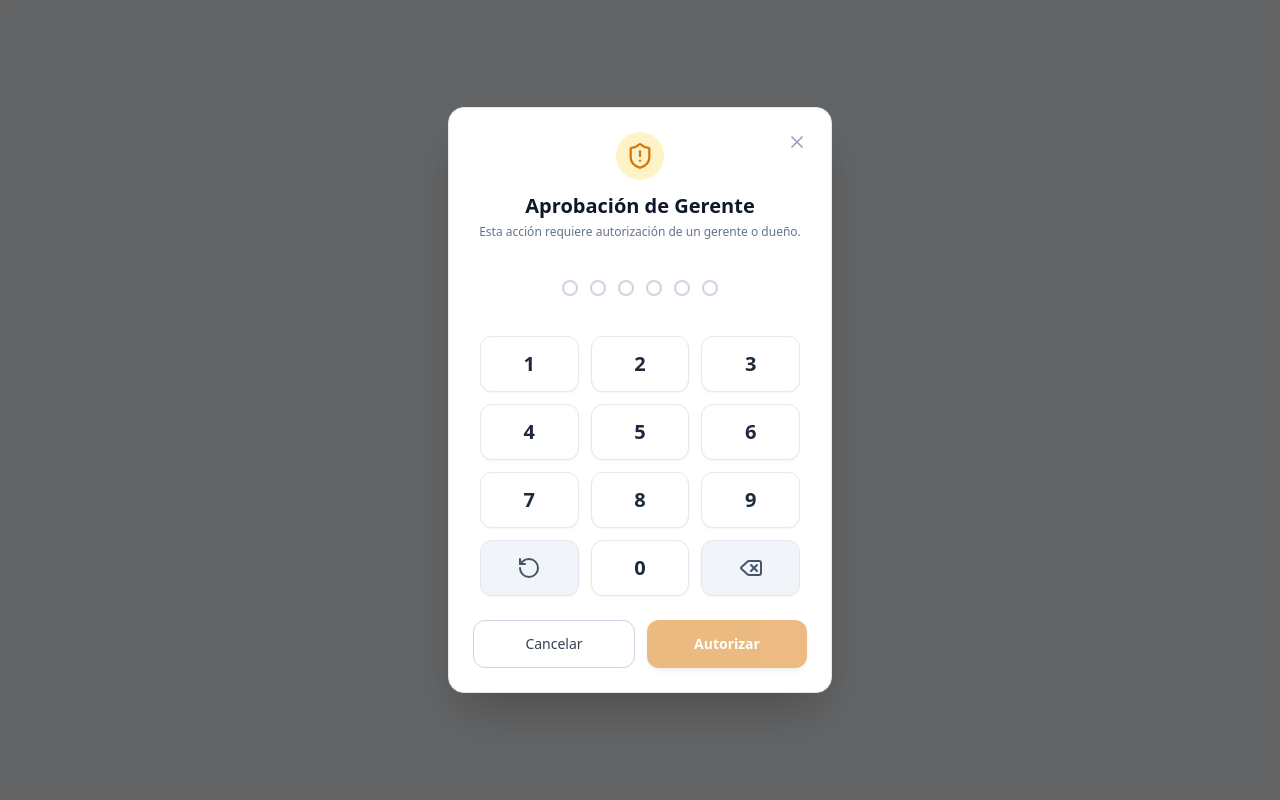
Test case: Auth & PIN Security (S2-T6) › ManagerApprovalDialog › rejects approval when a cashier PIN is entered
The width and height of the screenshot is (1280, 800).
Click the button "1": (529, 364) [480,336,579,392]
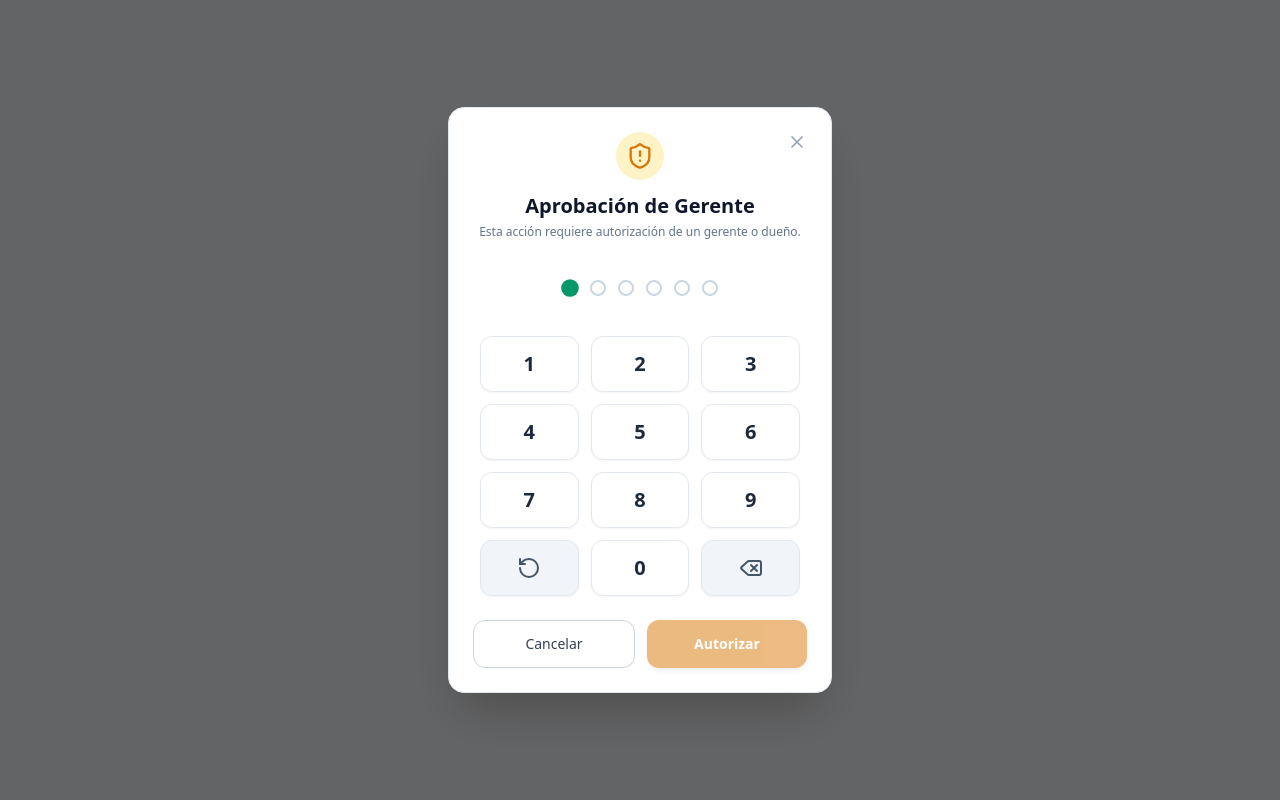
Click the button "1": (529, 364) [480,336,579,392]
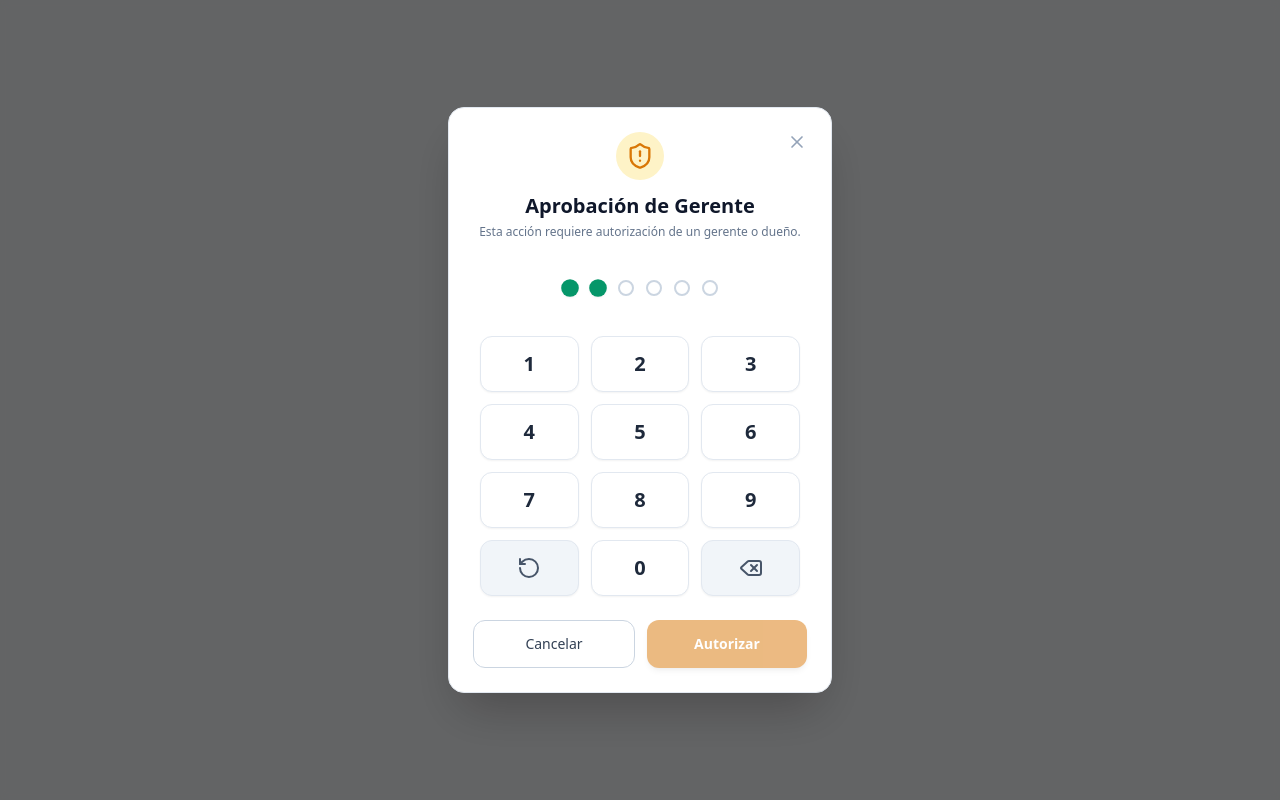
Click the button "1": (529, 364) [480,336,579,392]
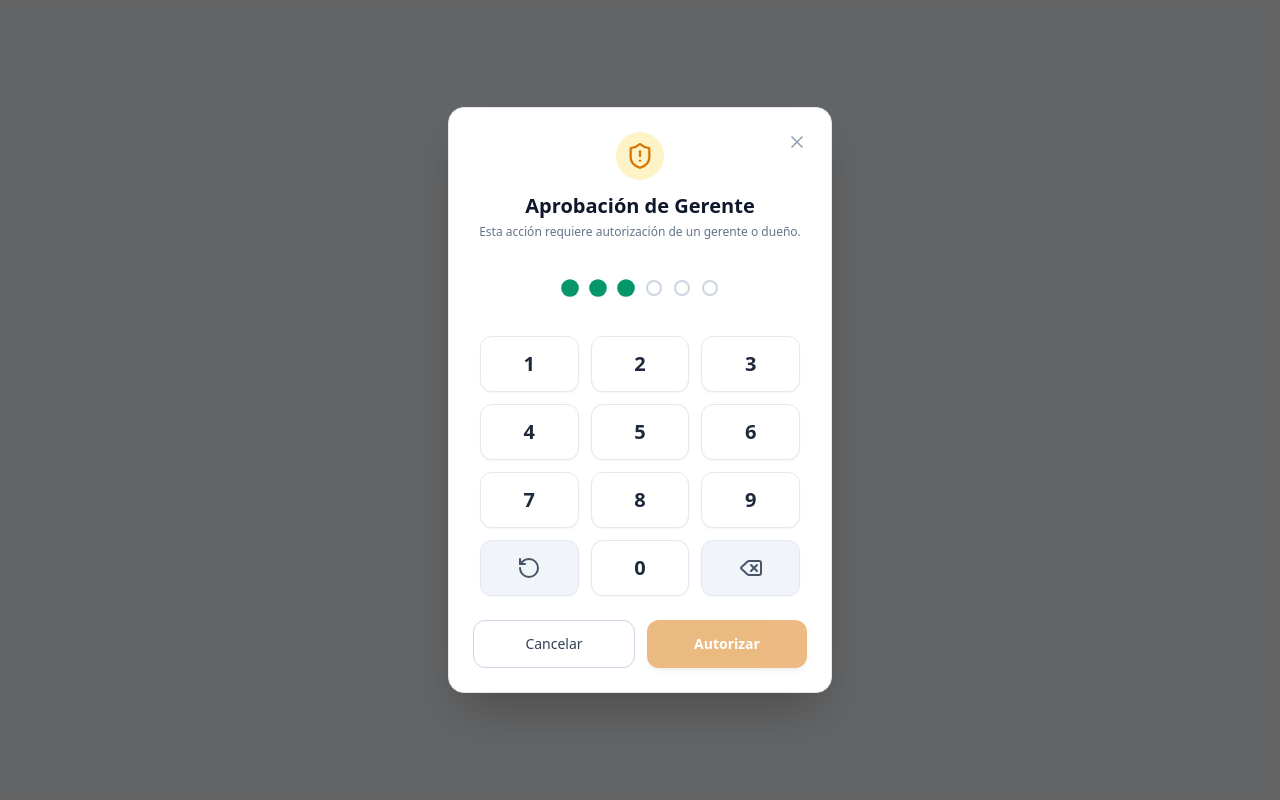
Click the button "1": (529, 364) [480,336,579,392]
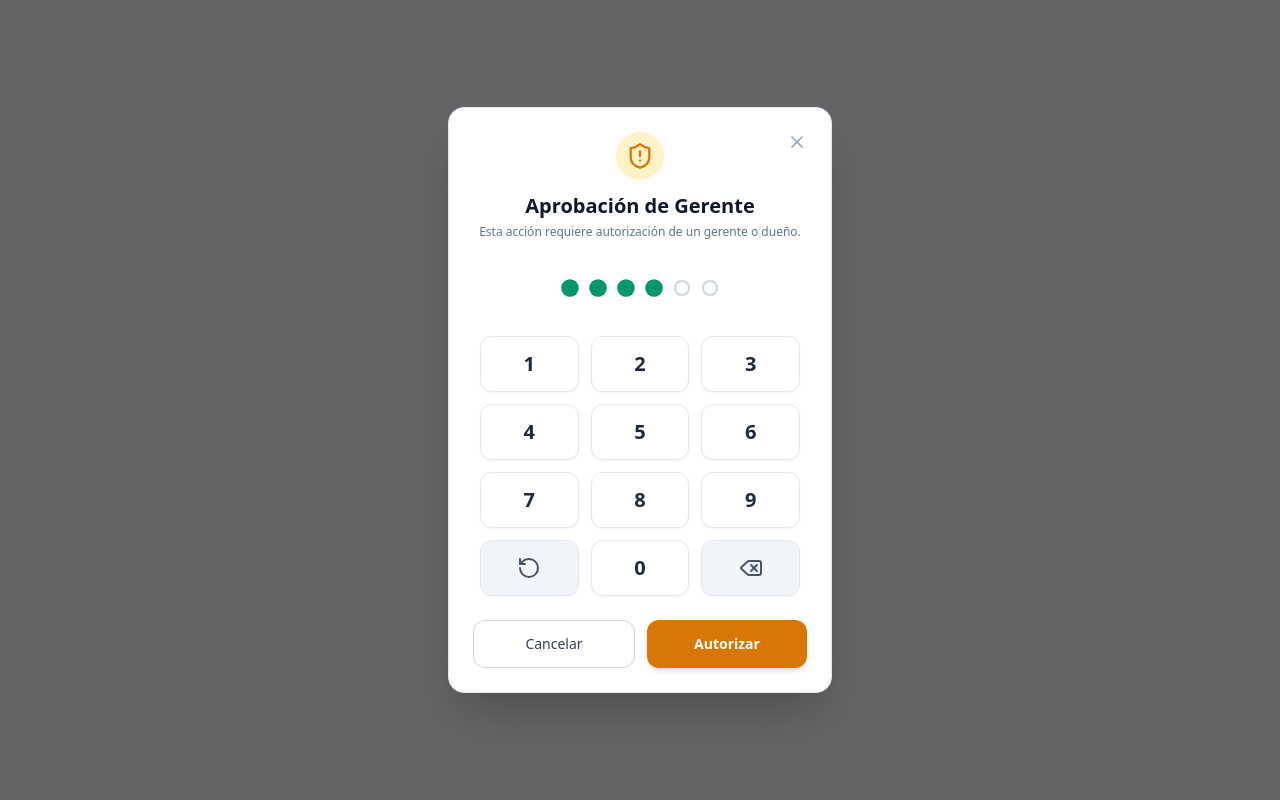
Click the button "Autorizar": (727, 644) [647,620,807,668]
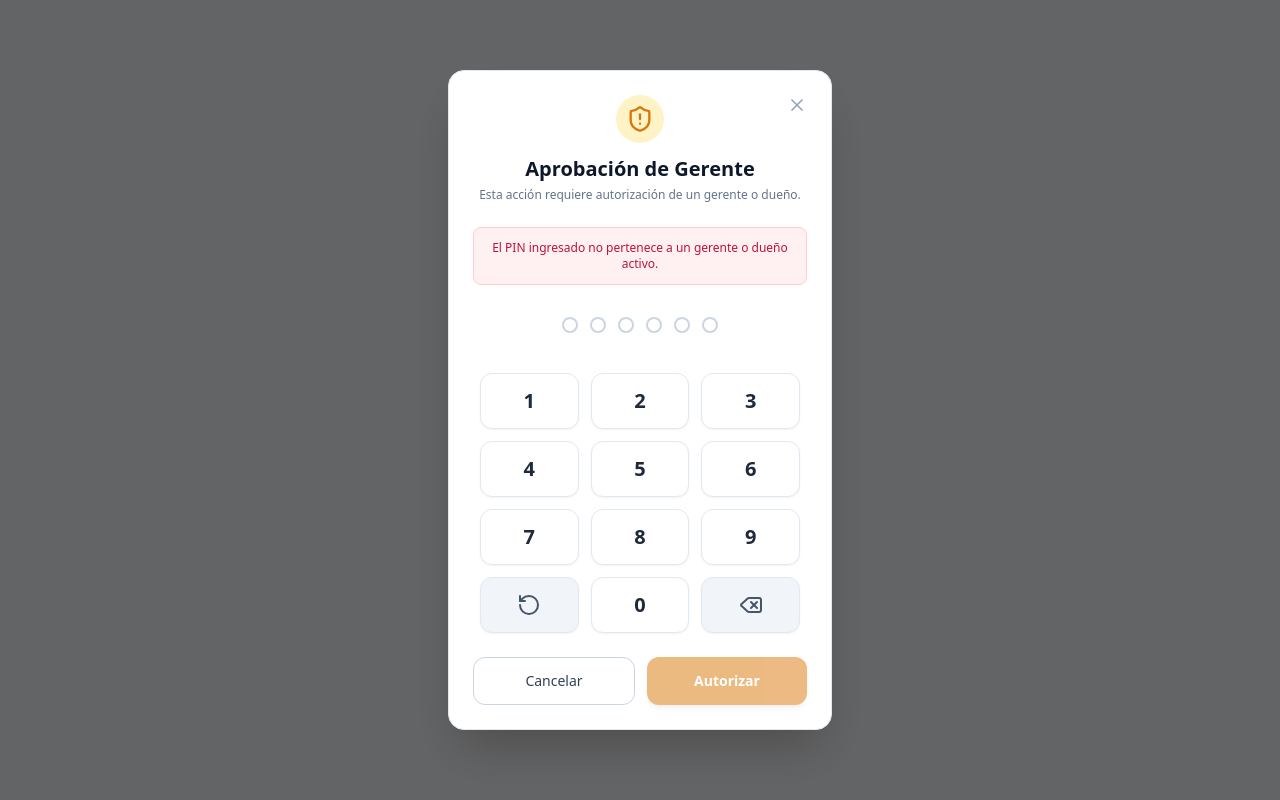
Now the text "El PIN ingresado no pertenece a un gerente o dueño activo." is shown, box [473,227,807,285]
